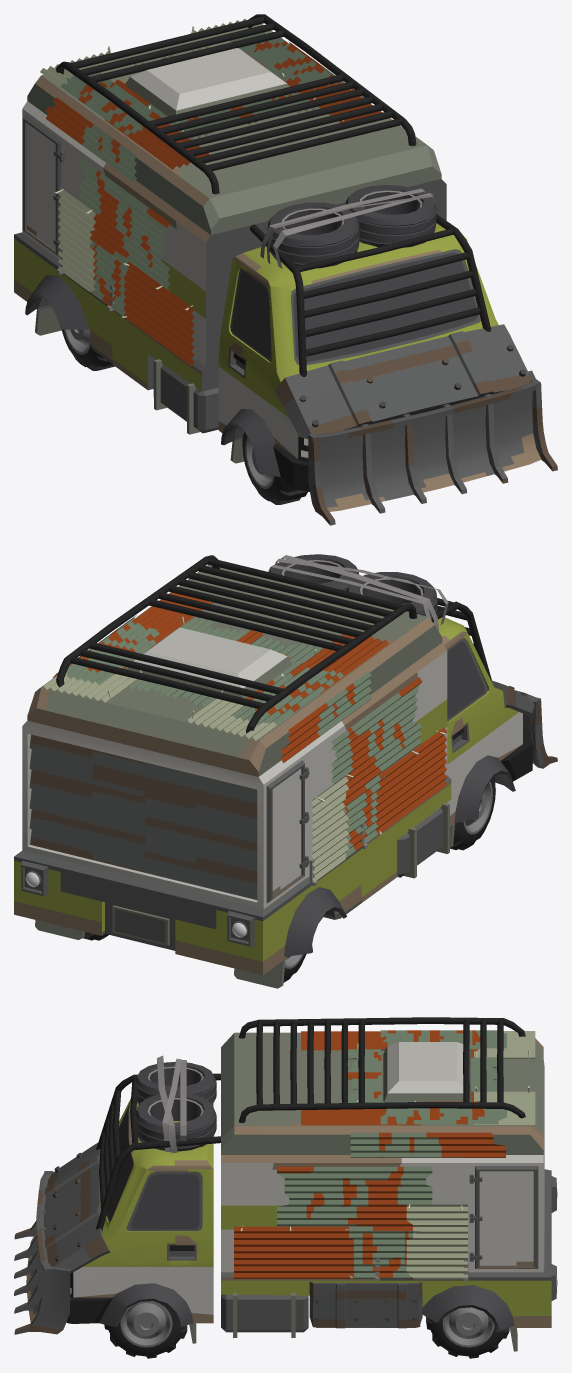
File: quaternius-zombie-apocalypse-kit-march-vehicle-truck-armored.glb
3 renders of one model, top to bottom at view 1: azimuth 30°, elevation 25°; view 2: azimuth 150°, elevation 25°; view 3: azimuth 270°, elevation 25°, orthographic. The views are drawn at different scales.
Visible parts, largest first — view 1: FrontWheel_R; view 2: FrontWheel_R; view 3: FrontWheel_R.
Part boxes in pixels (<box>): FrontWheel_R: <box>14,14,557,525</box>; FrontWheel_R: <box>14,554,557,988</box>; FrontWheel_R: <box>14,1017,556,1358</box>.
Size of the model in its own units: 2.98 by 2.9 by 5.59.
2 materials, 1 textured.
